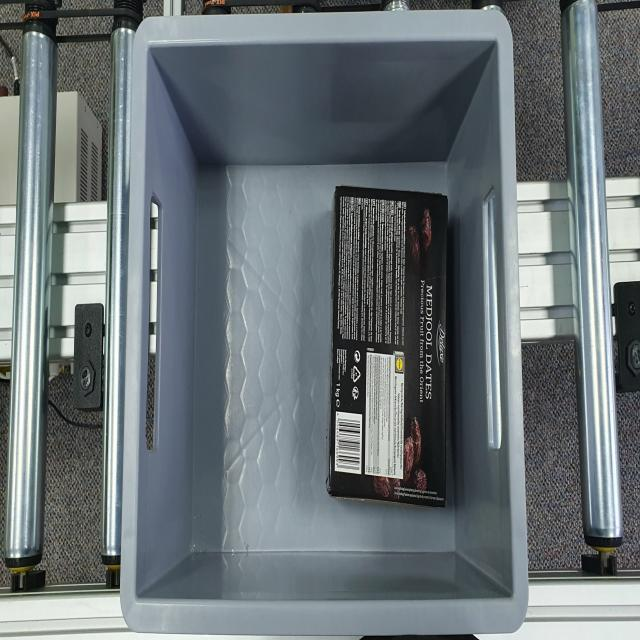box: (330, 186, 450, 506)
